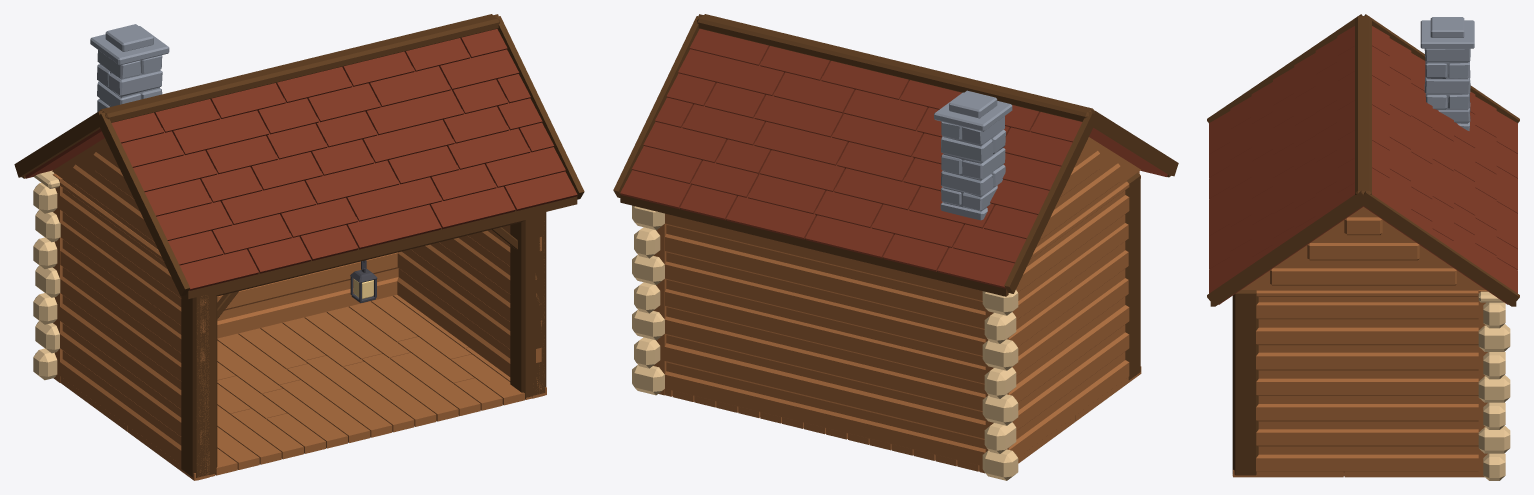
File: SawmillShed.fbx
3 renders of one model, left to right at view 1: azimuth 30°, elevation 25°; view 2: azimuth 150°, elevation 25°; view 3: azimuth 270°, elevation 25°, orthographic. The views are drawn at different scales.
Visible parts, largest first — view 1: Roof, Floor, Wall.001, Trim, Post, Wall.002, Wall, Chimney, Corner, Gable; view 2: Roof, Wall, Wall.001, Trim, Corner, Chimney, Gable, Floor, Post, Wall.002; view 3: Roof, Wall.002, Trim, Gable, Corner, Chimney, Post, Floor, Wall.
Boxes of the visible parts, box(x1,y1,x2,y2) form: Roof: box(25, 29, 577, 290); Floor: box(60, 295, 546, 480); Wall.001: box(54, 173, 209, 480); Trim: box(14, 14, 584, 298); Post: box(181, 212, 546, 477); Wall.002: box(397, 221, 544, 398); Wall: box(52, 173, 398, 382); Chimney: box(90, 24, 169, 111); Corner: box(33, 170, 60, 380); Gable: box(52, 138, 157, 247); Roof: box(620, 29, 1167, 288); Wall: box(664, 213, 1008, 465); Wall.001: box(985, 171, 1140, 457); Trim: box(613, 14, 1178, 296); Corner: box(632, 205, 1018, 480); Chimney: box(934, 90, 1012, 220); Gable: box(1037, 137, 1140, 245); Floor: box(665, 366, 1141, 473); Post: box(1125, 172, 1140, 380); Wall.002: box(653, 224, 666, 395); Roof: box(1209, 26, 1517, 304); Wall.002: box(1232, 290, 1478, 476); Trim: box(1207, 14, 1519, 306); Gable: box(1241, 207, 1485, 289); Corner: box(1478, 291, 1510, 480); Chimney: box(1420, 17, 1474, 130); Post: box(1232, 290, 1258, 475); Floor: box(1233, 470, 1478, 477); Wall: box(1477, 290, 1487, 477).
Size of the model in its own units: 22.6 by 18.85 by 16.72.
